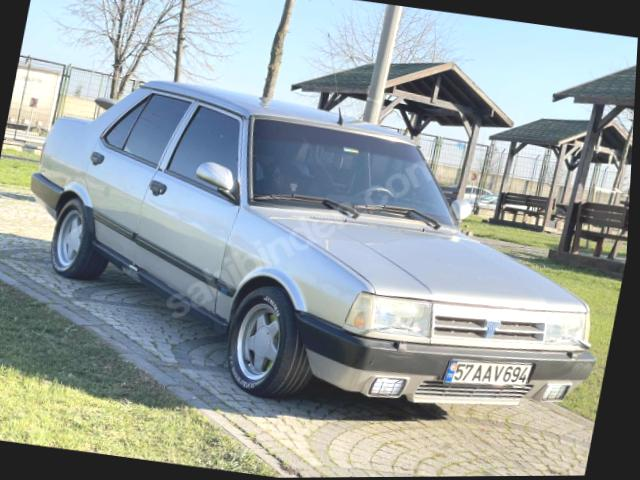plaka: (443, 360, 532, 385)
